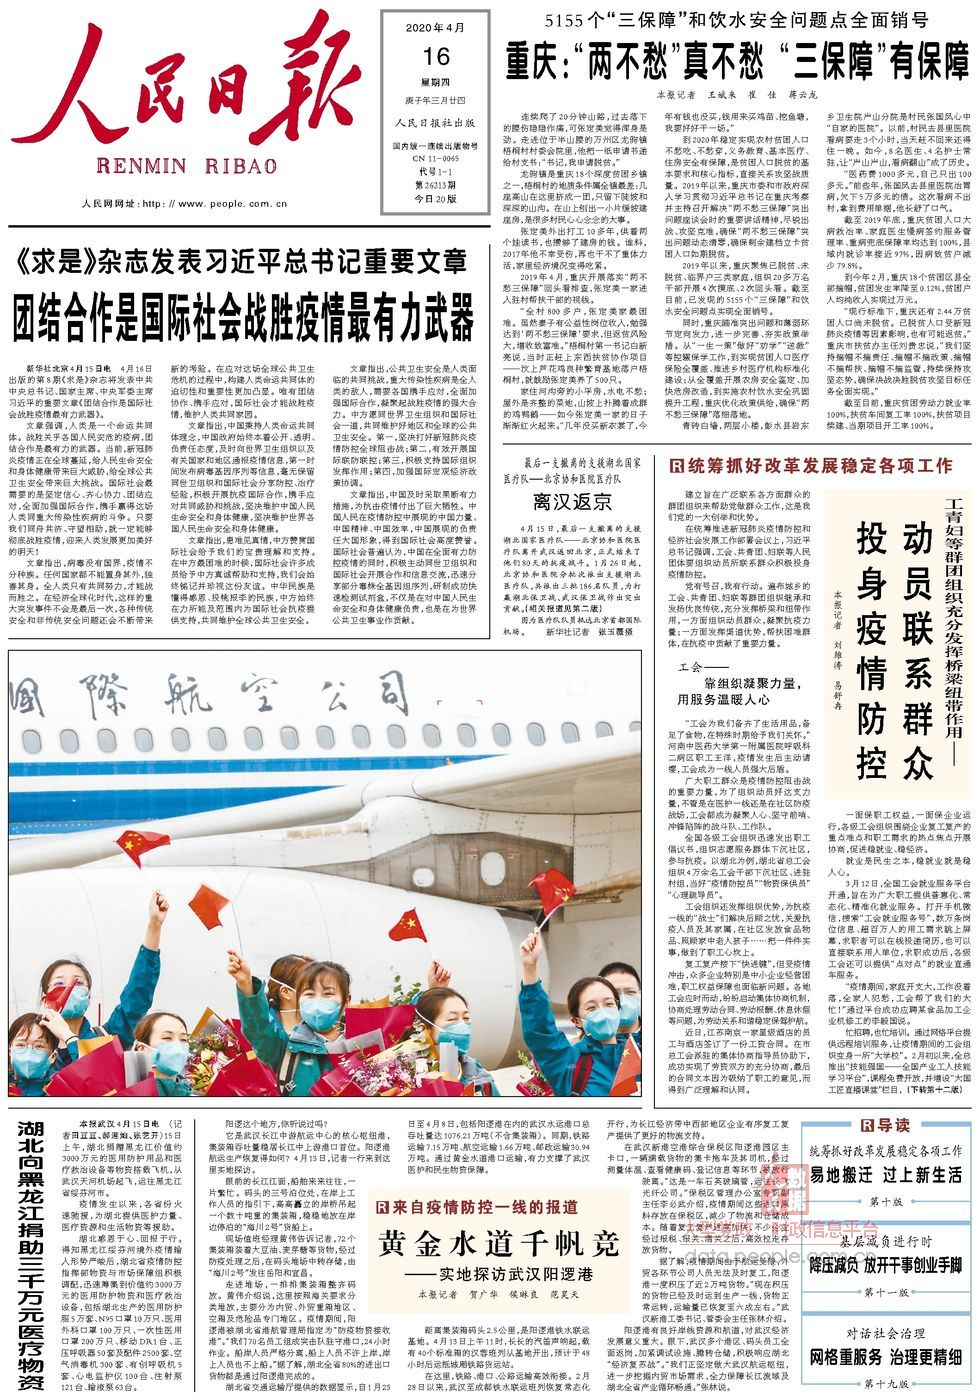pic: (3, 644, 647, 1101)
